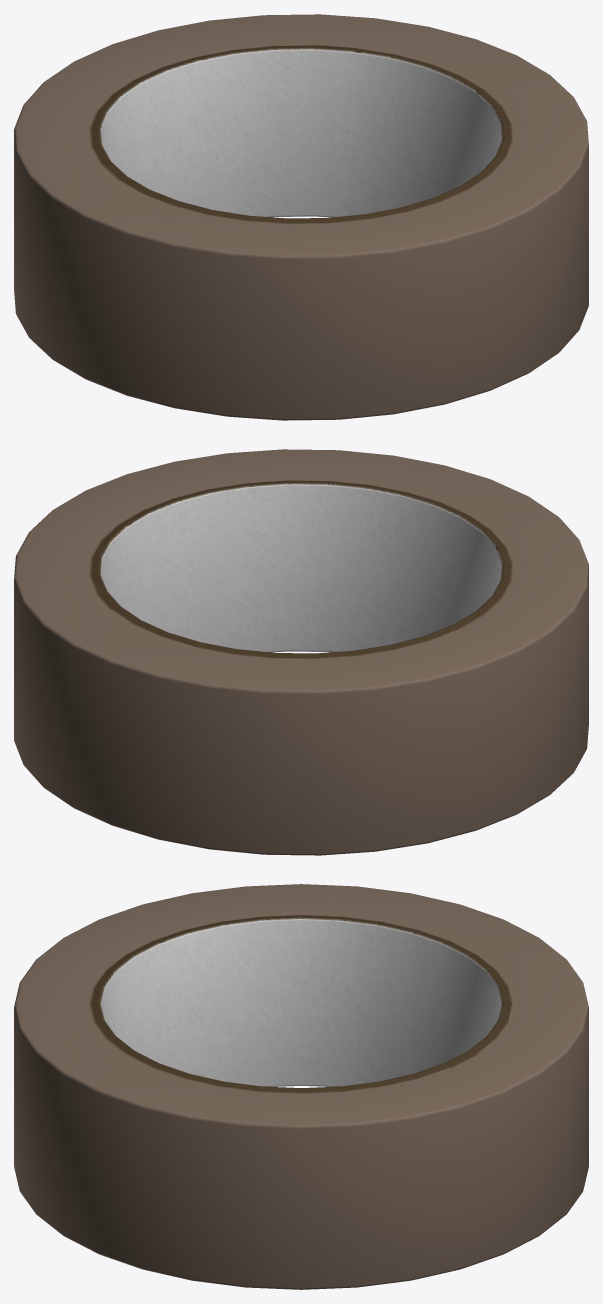
3 renders of one model, top to bottom at view 1: azimuth 30°, elevation 25°; view 2: azimuth 150°, elevation 25°; view 3: azimuth 270°, elevation 25°, orthographic.
Visible parts, largest first — view 1: SM_brown_tape; view 2: SM_brown_tape; view 3: SM_brown_tape.
Boxes of the visible parts, left/top/right/bottom form: SM_brown_tape: left=14, top=14, right=588, bottom=420; SM_brown_tape: left=14, top=449, right=588, bottom=855; SM_brown_tape: left=14, top=884, right=588, bottom=1289.
Size of the model in its own units: 4.99 by 1.61 by 4.99.
1 material, 1 textured.
